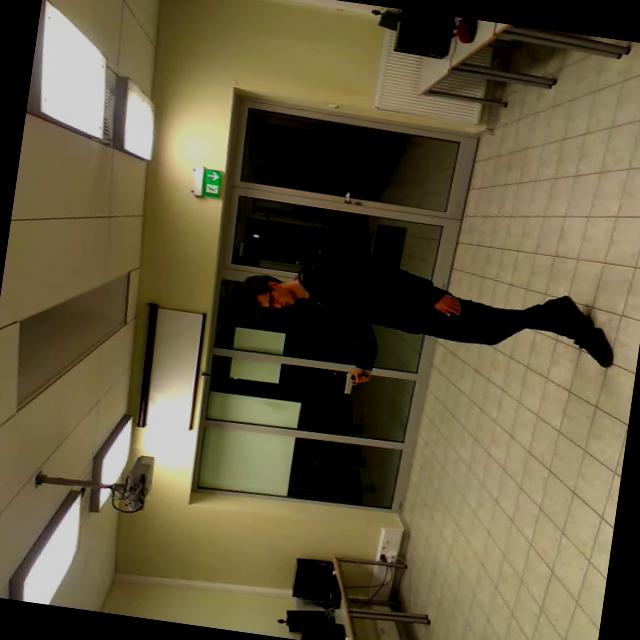handgun: (330, 361, 388, 404)
